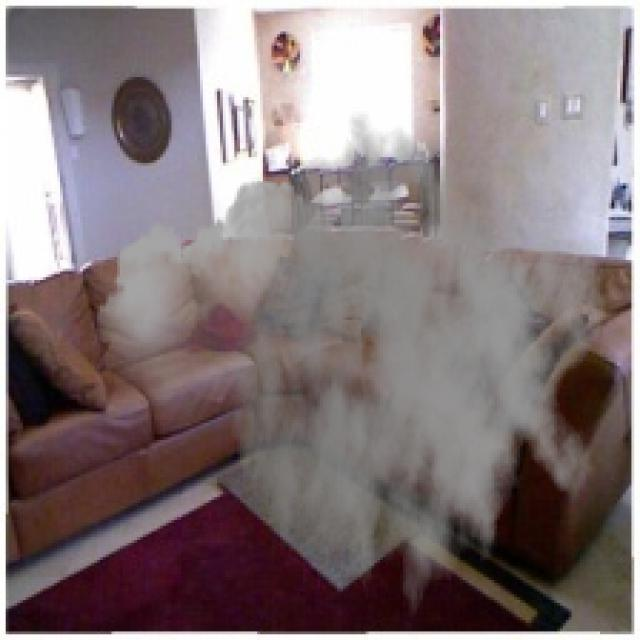smoke: (89, 112, 612, 637)
